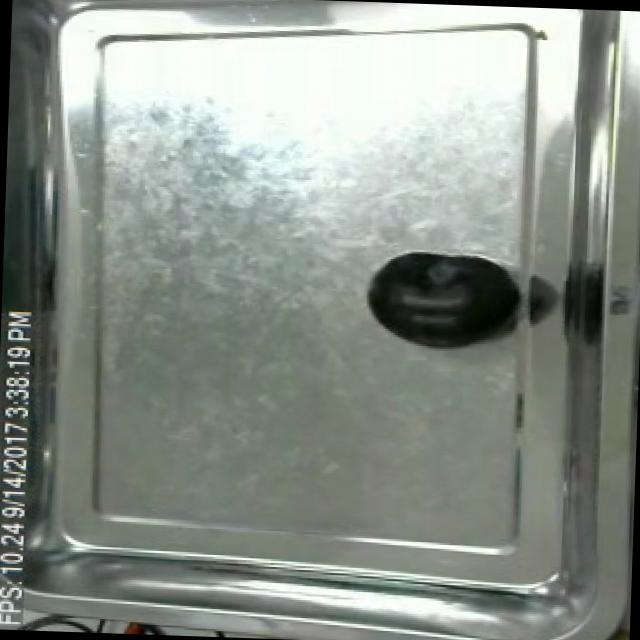Fruit: (356, 243, 522, 357)
